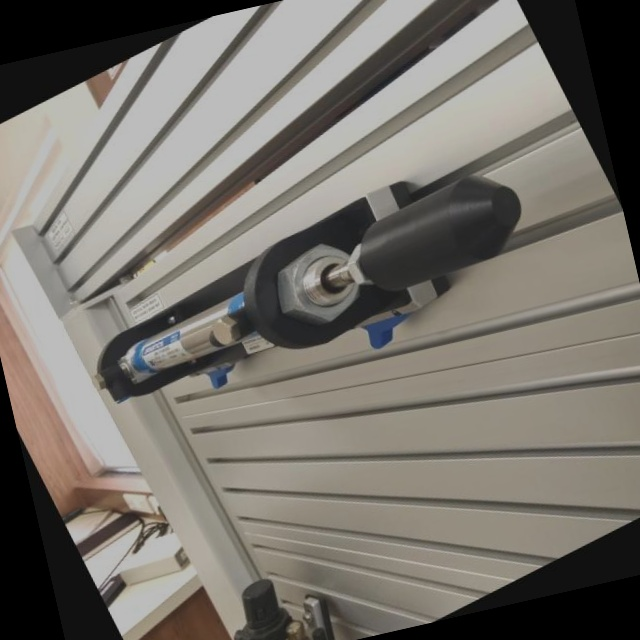double acting pneumatic cylinder: (45, 122, 582, 486)
